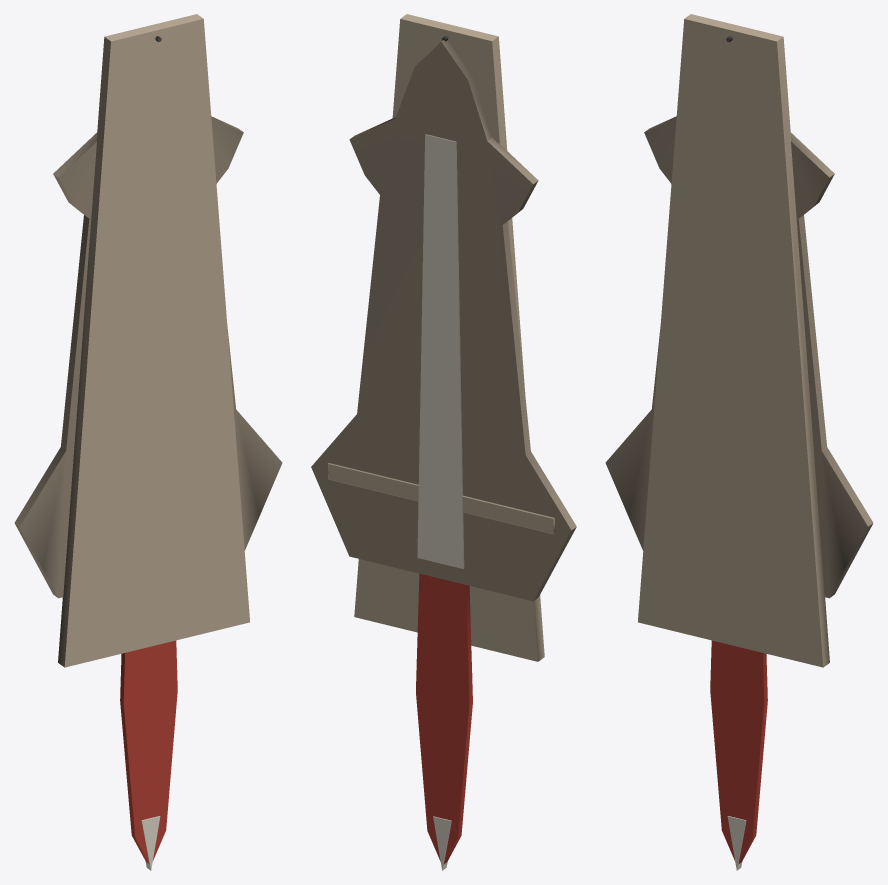
The model's file is hide_frame.glb.
The picture shows the model from 3 angles, left to right: view 1: azimuth 30°, elevation 25°; view 2: azimuth 150°, elevation 25°; view 3: azimuth 330°, elevation 25°; orthographic projection.
Parts seen in each view (by area): view 1: static; view 2: static; view 3: static.
Boxes of the visible parts, left/top/right/bottom form: static: left=14, top=14, right=282, bottom=870; static: left=311, top=14, right=576, bottom=870; static: left=605, top=14, right=873, bottom=870.
Bounding box in the file's own units: 0.34 × 1.05 × 0.033.
